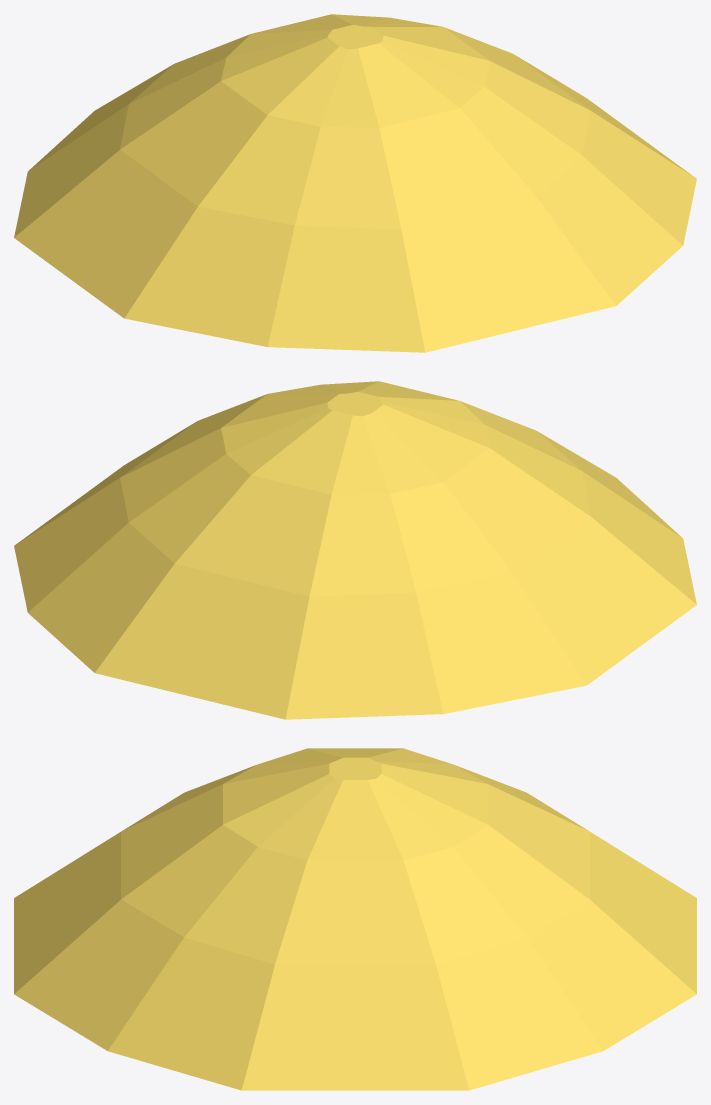
Rendered from seeds_2.fbx.
3 renders of one model, top to bottom at view 1: azimuth 30°, elevation 25°; view 2: azimuth 150°, elevation 25°; view 3: azimuth 270°, elevation 25°, orthographic. The views are drawn at different scales.
Parts seen in each view (by area): view 1: seeds_2; view 2: seeds_2; view 3: seeds_2.
Boxes of the visible parts, x1,y1,x2,y2 form: seeds_2: (14,14,696,352); seeds_2: (14,381,696,719); seeds_2: (14,748,696,1090).
Bounding box in the file's own units: 288 × 82.56 × 288.
